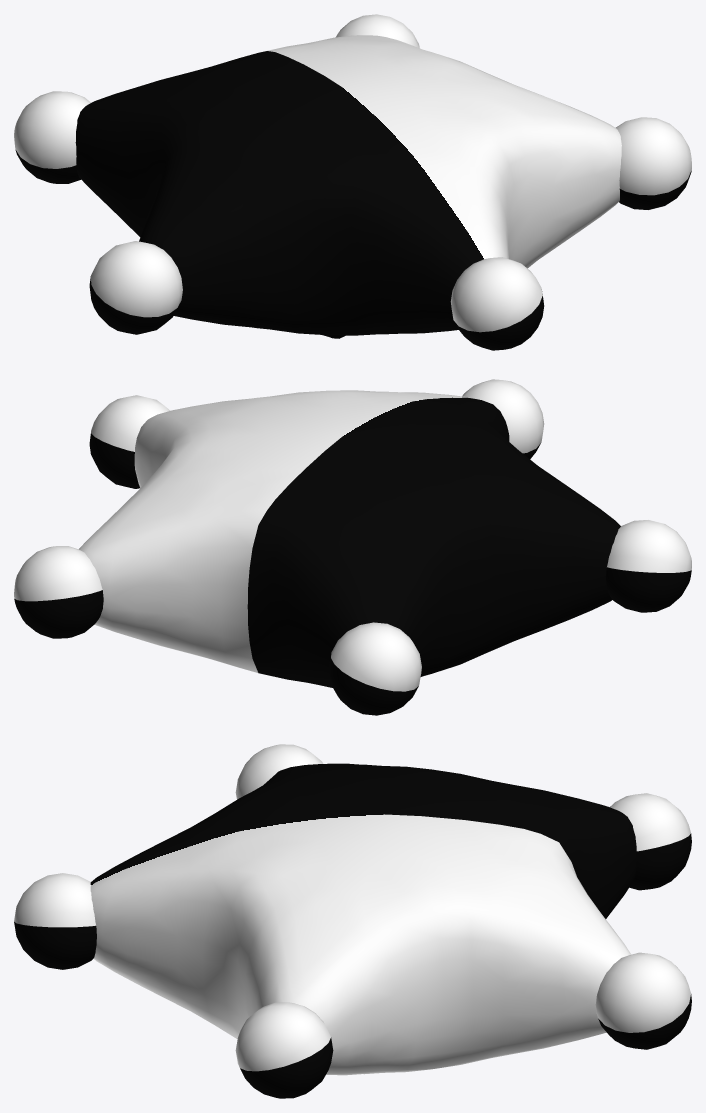
Rendered from GrandStar.obj.
3 renders of one model, top to bottom at view 1: azimuth 30°, elevation 25°; view 2: azimuth 150°, elevation 25°; view 3: azimuth 270°, elevation 25°, orthographic. The views are drawn at different scales.
Visible parts, largest first — view 1: n1b0; view 2: n1b0; view 3: n1b0.
Part boxes in pixels (x1,y1,x2,y2): n1b0: (14, 14, 691, 350); n1b0: (14, 379, 691, 715); n1b0: (14, 744, 691, 1098).
Size of the model in its own units: 338 by 120 by 324.
